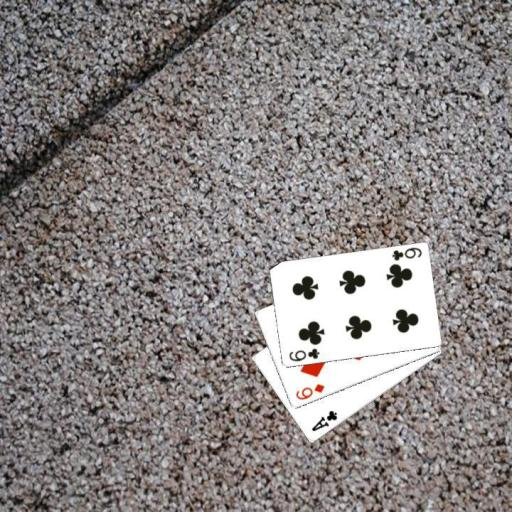6C: (285, 346, 321, 364), (388, 245, 423, 263)
6D: (292, 380, 326, 402)
AC: (308, 408, 338, 433)
